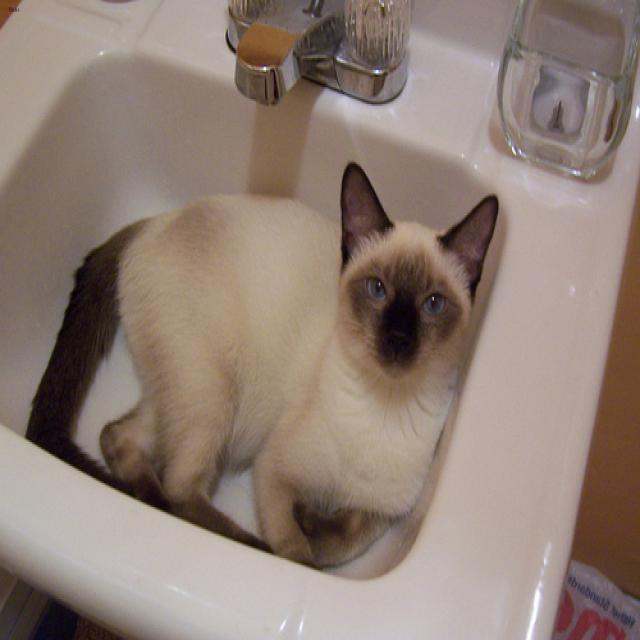Siamese: (338, 159, 497, 381)
